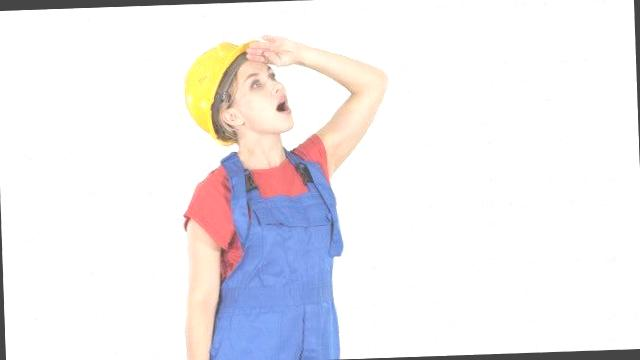helmet: (177, 36, 262, 137)
no_vest: (176, 142, 341, 330)
person: (164, 34, 353, 360)
